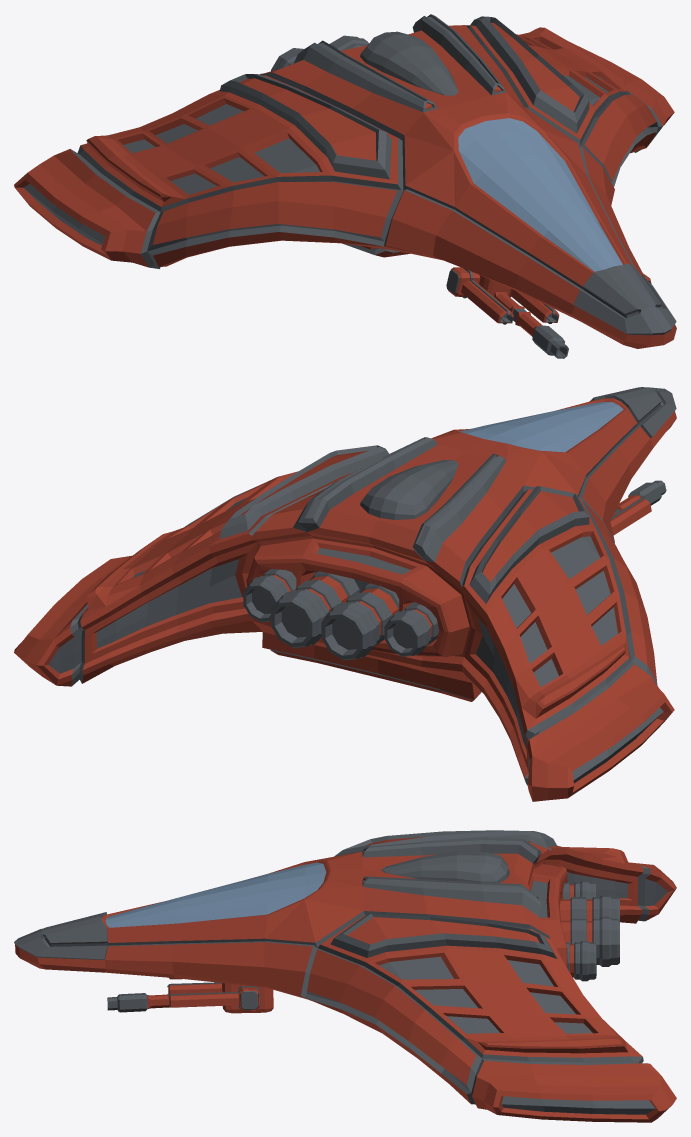
Rendered from Fighter_09_Red.fbx.
3 renders of one model, top to bottom at view 1: azimuth 30°, elevation 25°; view 2: azimuth 150°, elevation 25°; view 3: azimuth 270°, elevation 25°, orthographic. The views are drawn at different scales.
Visible parts, largest first — view 1: Fighter_09_Red; view 2: Fighter_09_Red; view 3: Fighter_09_Red.
Boxes of the visible parts, x1,y1,x2,y2 form: Fighter_09_Red: [14, 14, 676, 358]; Fighter_09_Red: [14, 387, 676, 801]; Fighter_09_Red: [14, 830, 676, 1122].
Size of the model in its own units: 1089 by 343 by 1256.
3 materials, 3 textured.
